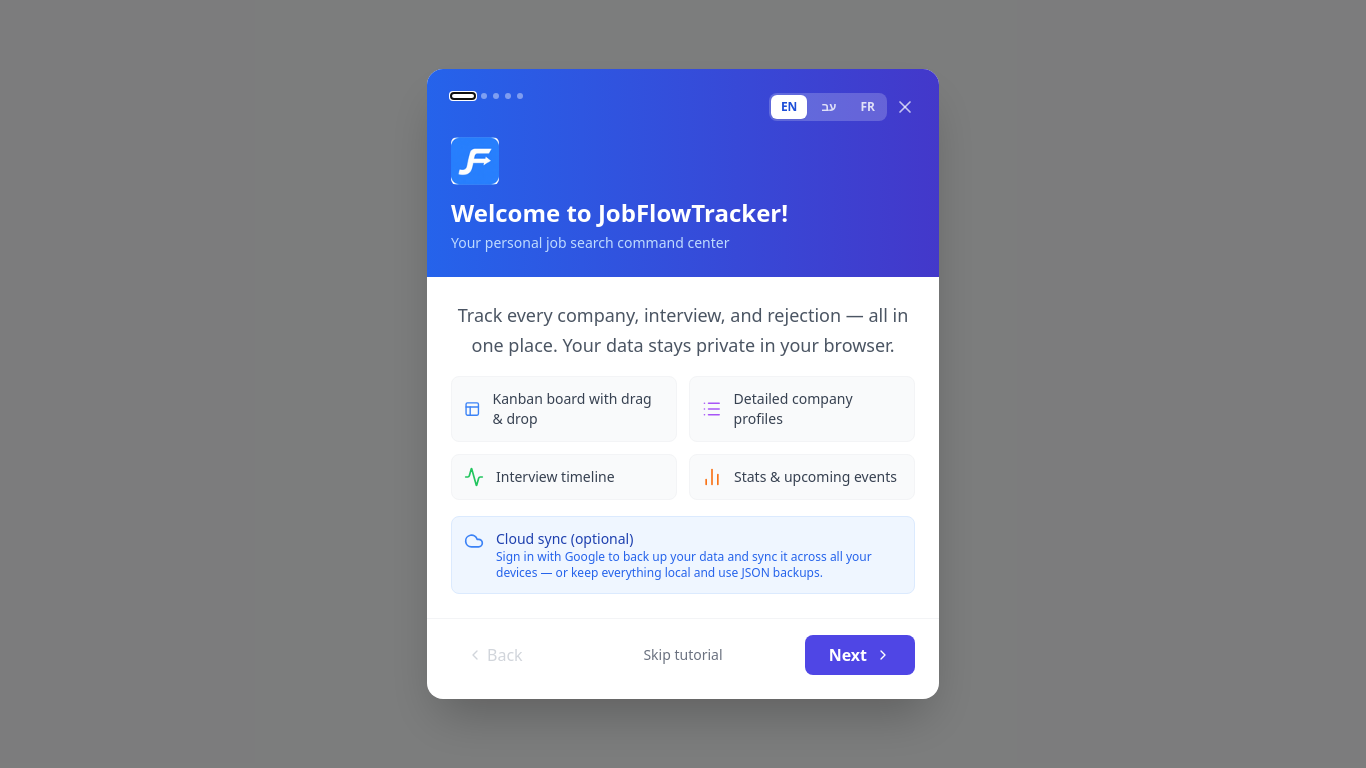
it: Onboarding › clicking Next advances to step 2 (Status Board)
The width and height of the screenshot is (1366, 768).
Step 1. Click the button "Next" → (860, 655), box [805, 635, 915, 675]
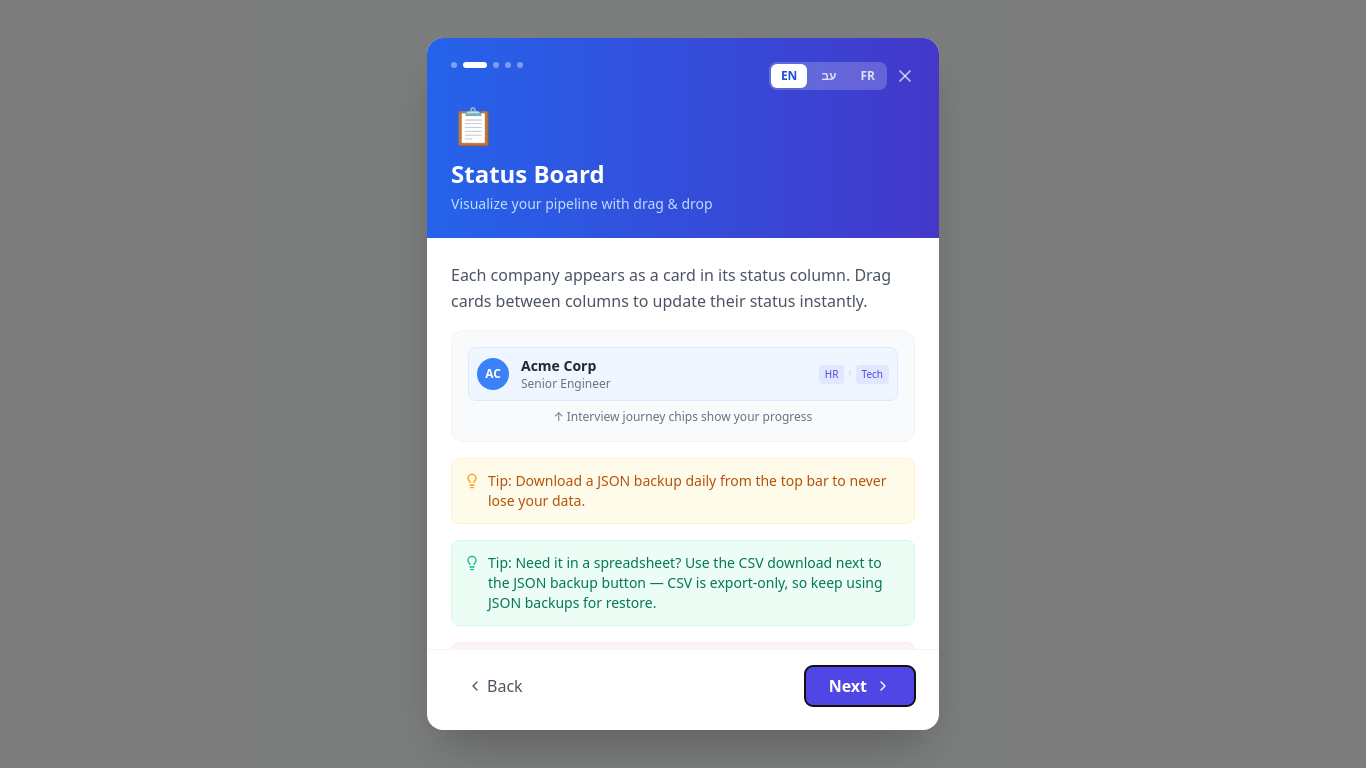
Now the heading "Status Board" is shown, box [451, 157, 605, 190]
